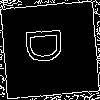D: (25, 25, 72, 66)
